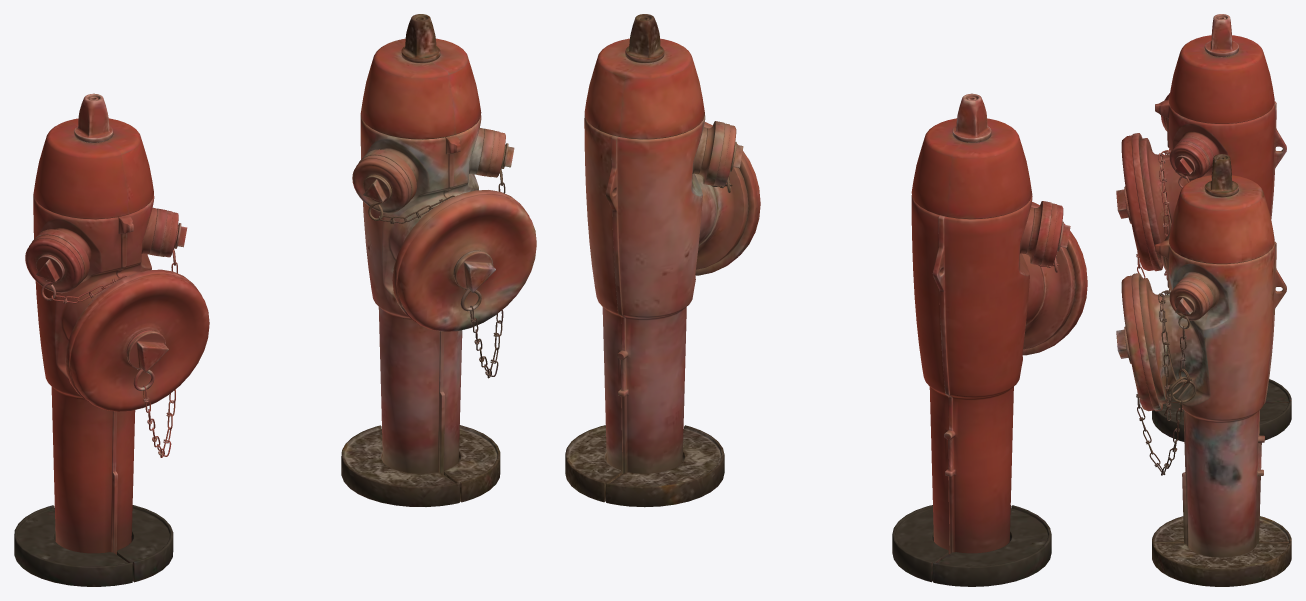
The model's file is fire_hydrant.glb.
3 views of the same model, side by side, from view 1: azimuth 30°, elevation 25°; view 2: azimuth 150°, elevation 25°; view 3: azimuth 270°, elevation 25° (orthographic). The views are drawn at different scales.
Visible parts, largest first — view 1: fire_hydrant_aged, fire_hydrant, fire_hydrant_cap_01, fire_hydrant_cap_01_aged, fire_hydrant_cap_03_aged, fire_hydrant_cap_03, fire_hydrant_chain_aged, fire_hydrant_chain, fire_hydrant_cap_02, fire_hydrant_cap_02_aged; view 2: fire_hydrant_aged, fire_hydrant, fire_hydrant_cap_01_aged, fire_hydrant_cap_01, fire_hydrant_cap_03_aged, fire_hydrant_cap_03; view 3: fire_hydrant_aged, fire_hydrant, fire_hydrant_cap_01, fire_hydrant_cap_01_aged, fire_hydrant_chain_aged, fire_hydrant_cap_02_aged, fire_hydrant_cap_02, fire_hydrant_chain.
Boxes of the visible parts, x1,y1,x2,y2 form: fire_hydrant_aged: [341, 14, 500, 506]; fire_hydrant: [14, 93, 173, 586]; fire_hydrant_cap_01: [65, 269, 209, 411]; fire_hydrant_cap_01_aged: [392, 190, 536, 331]; fire_hydrant_cap_03_aged: [352, 155, 411, 213]; fire_hydrant_cap_03: [25, 235, 84, 293]; fire_hydrant_chain_aged: [368, 145, 505, 378]; fire_hydrant_chain: [41, 224, 178, 457]; fire_hydrant_cap_02: [159, 210, 187, 257]; fire_hydrant_cap_02_aged: [486, 130, 514, 177]; fire_hydrant_aged: [565, 14, 748, 507]; fire_hydrant: [892, 93, 1075, 586]; fire_hydrant_cap_01_aged: [695, 122, 760, 275]; fire_hydrant_cap_01: [1022, 202, 1087, 355]; fire_hydrant_cap_03_aged: [713, 123, 743, 186]; fire_hydrant_cap_03: [1041, 203, 1070, 266]; fire_hydrant_aged: [1139, 154, 1291, 586]; fire_hydrant: [1139, 14, 1291, 441]; fire_hydrant_cap_01: [1116, 133, 1162, 271]; fire_hydrant_cap_01_aged: [1116, 273, 1162, 411]; fire_hydrant_chain_aged: [1136, 289, 1196, 475]; fire_hydrant_cap_02_aged: [1169, 281, 1209, 320]; fire_hydrant_cap_02: [1169, 141, 1209, 180]; fire_hydrant_chain: [1136, 149, 1194, 279].
Size of the model in its own units: 0.8746 by 0.7995 by 0.3177.
2 materials, 2 textured.
